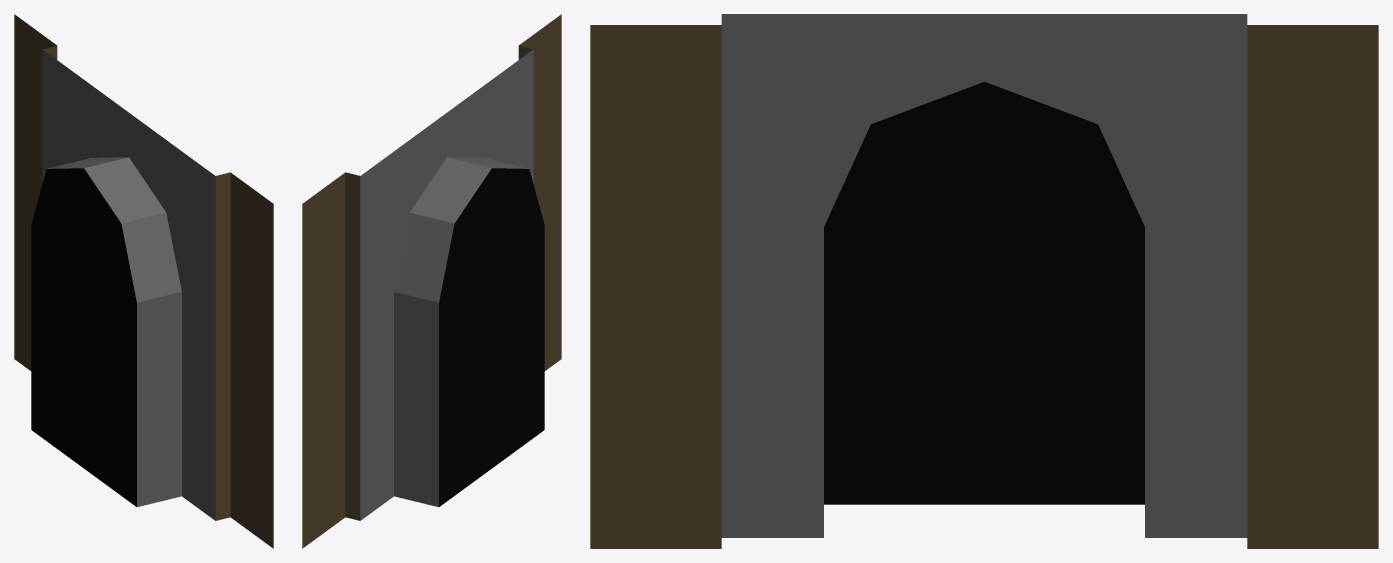
File: Wood_Door_Round_01.obj
The picture shows the model from 3 angles, left to right: view 1: azimuth 30°, elevation 25°; view 2: azimuth 150°, elevation 25°; view 3: azimuth 270°, elevation 25°; orthographic projection. The views are drawn at different scales.
Visible parts, largest first — view 1: Mesh1_Wood_Door_Round_Model; view 2: Mesh1_Wood_Door_Round_Model; view 3: Mesh1_Wood_Door_Round_Model.
Part boxes in pixels (left/top/right/bottom): Mesh1_Wood_Door_Round_Model: left=14, top=14, right=273, bottom=548; Mesh1_Wood_Door_Round_Model: left=302, top=14, right=561, bottom=548; Mesh1_Wood_Door_Round_Model: left=590, top=14, right=1378, bottom=548.
Size of the model in its own units: 0.4 by 2.2 by 3.
